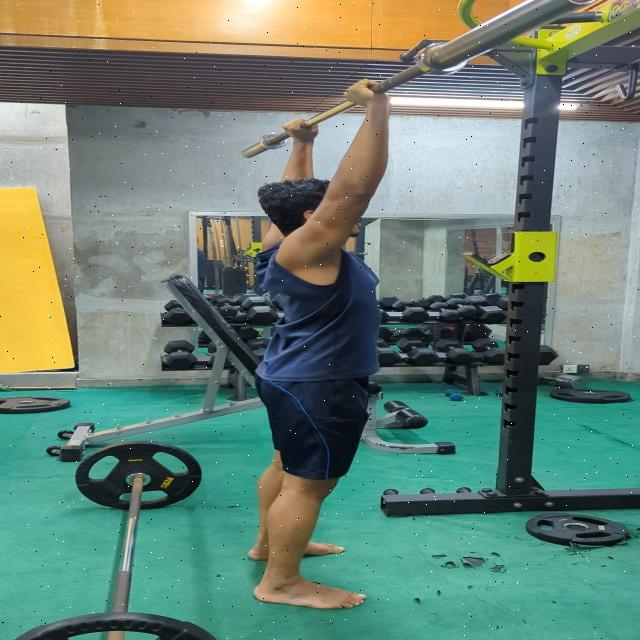Normal_OverheadPress: (228, 67, 409, 625)
